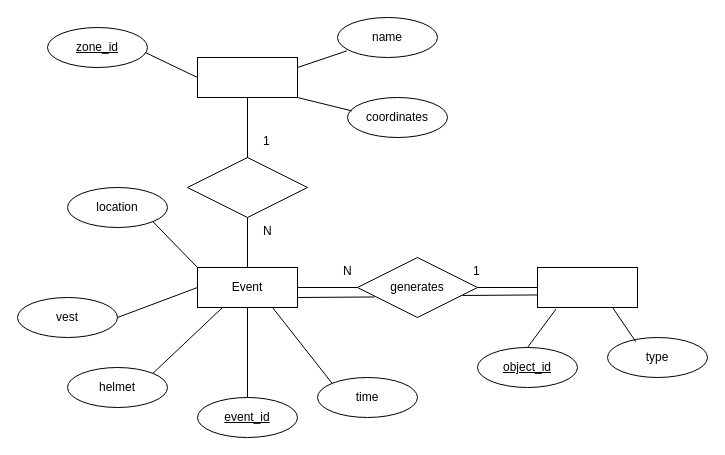
Image size: 725x455. Some labels were removed from this diagram. Here are the shapes that lost their labels. From the top down, the centre of each, then its label:
At point (247, 77): "Zone".
At point (247, 187): "has".
At point (587, 287): "Object".
